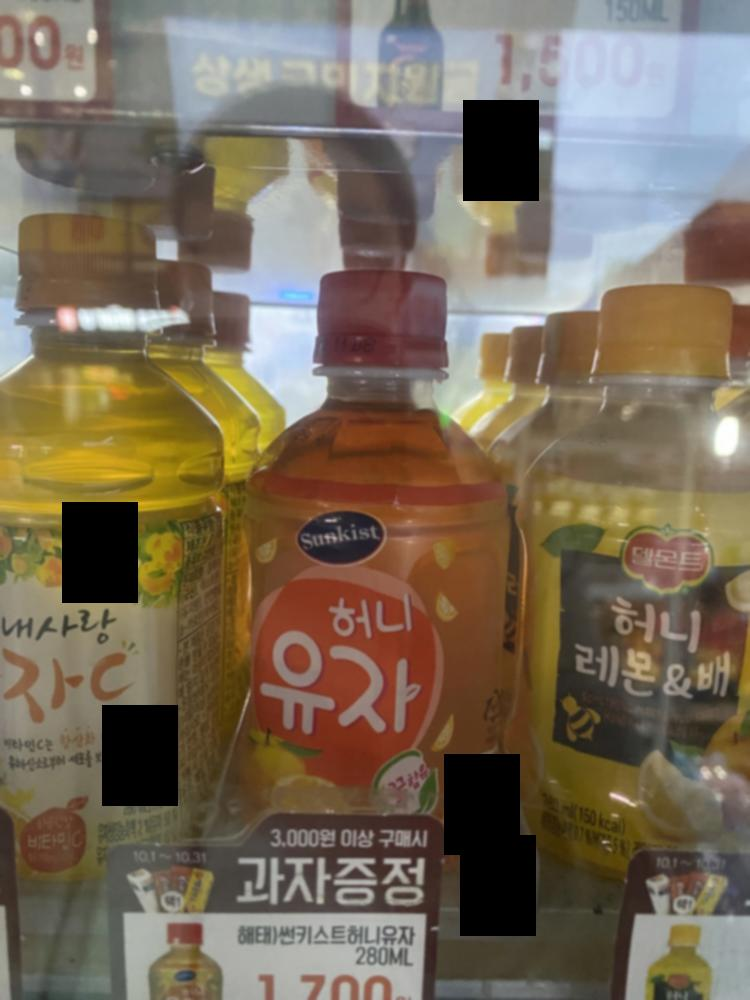honeyyuja: (221, 243, 514, 861)
